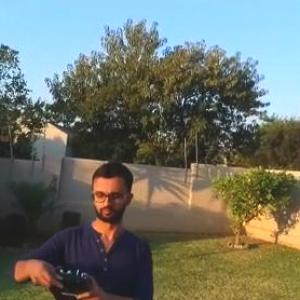follow: (7, 151, 175, 299)
